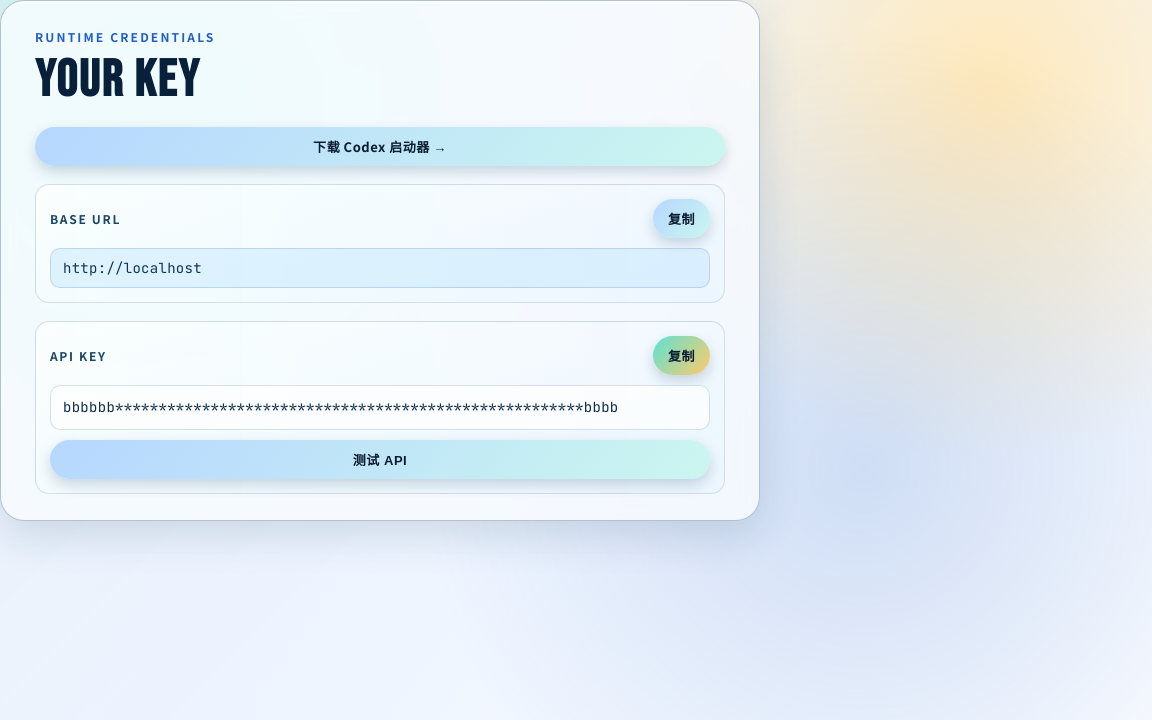
Test: KeyResult › tests OpenAI connectivity with edited base URL and key, then renders models
The width and height of the screenshot is (1152, 720).
Step 1. Replace the text in the field named "Base URL" with "https://proxy.example.com/v2/" → point(380, 268), box [50,248,710,288]
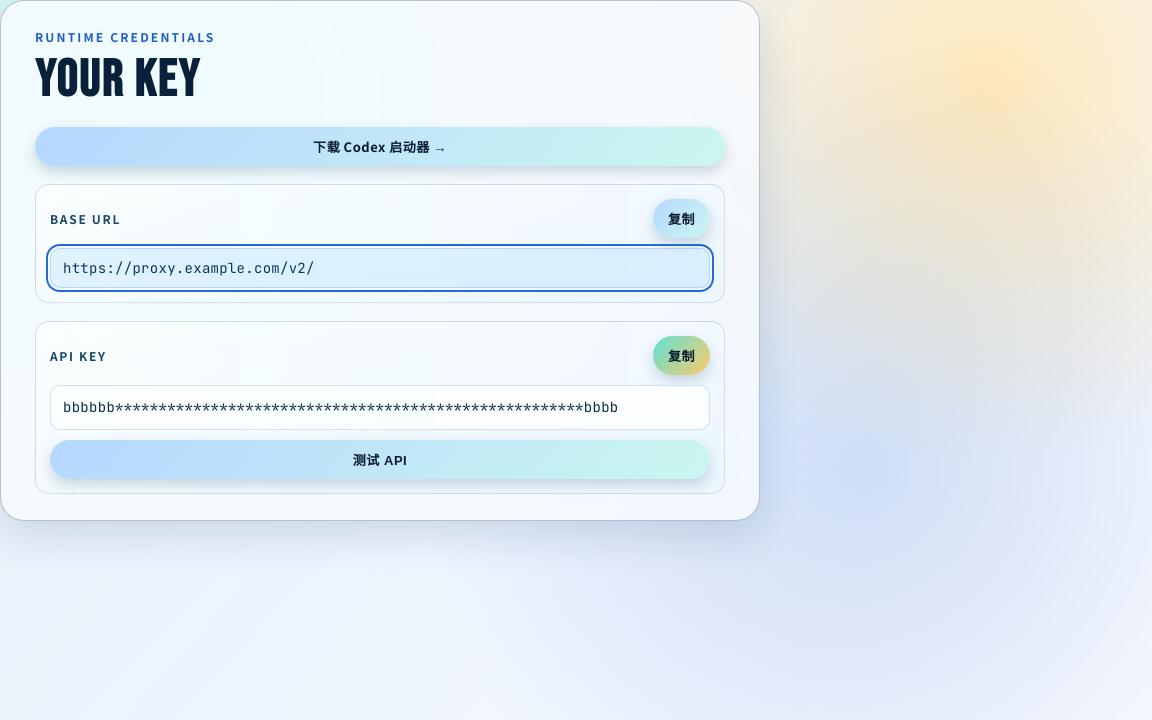
Step 2. Click the button "测试 API" → point(380, 459), box [50,440,710,479]
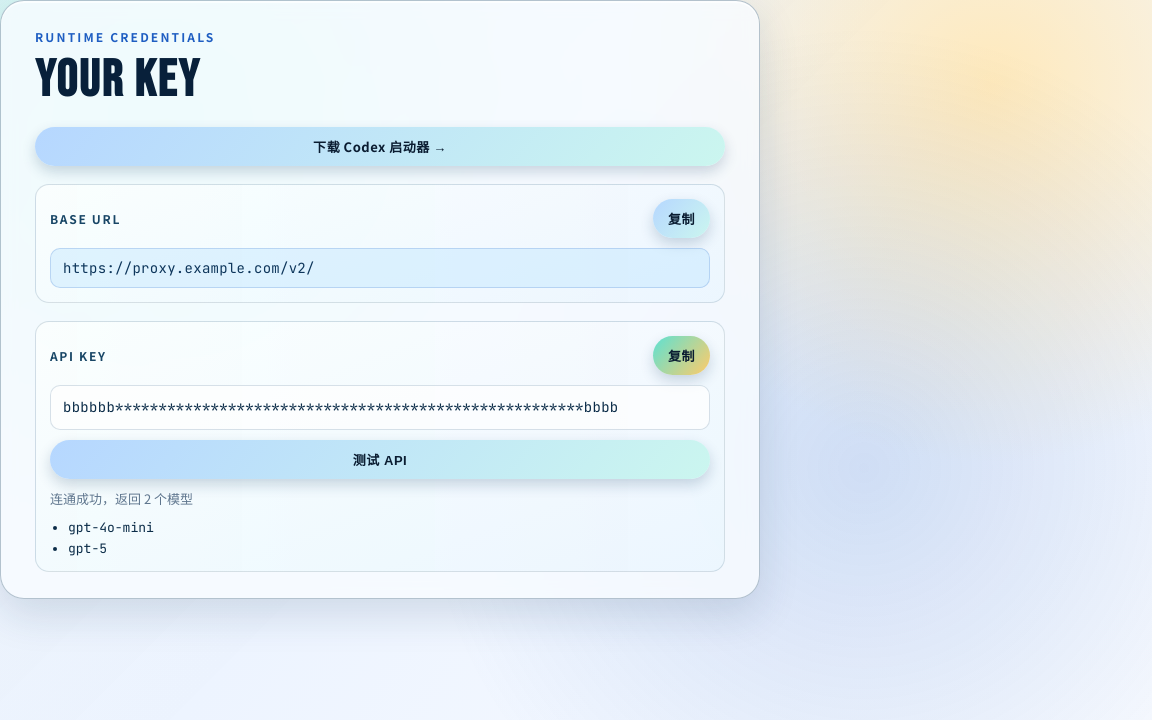
Result: the list item "gpt-4o-mini" is shown at [68,519,154,536]
Result: the list item "gpt-5" is shown at [68,540,107,557]
